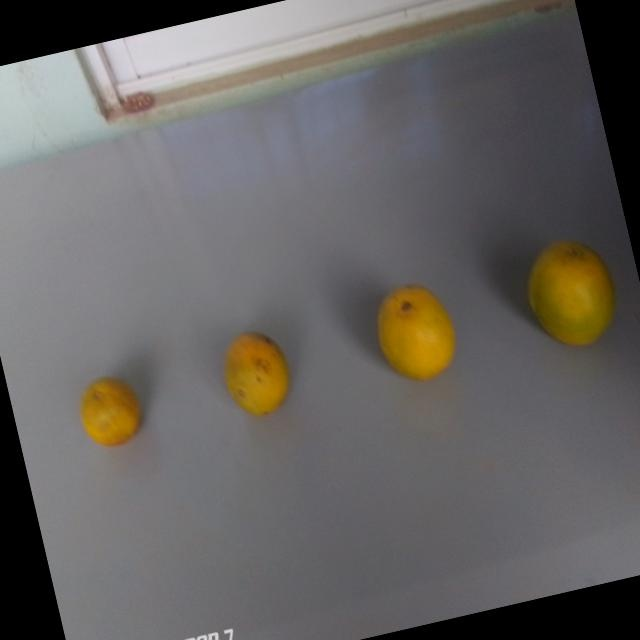agrume: (511, 225, 632, 359), (361, 271, 471, 396), (210, 317, 305, 433), (62, 362, 162, 462)
